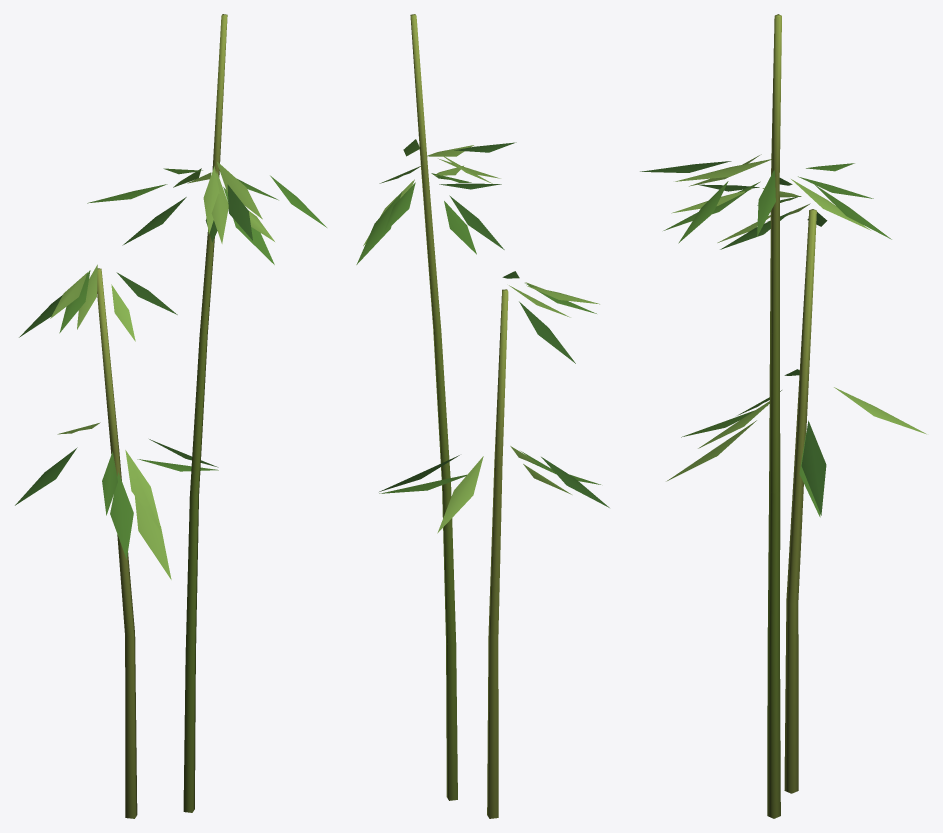
Rendered from prop.bamboo_stalks.lod1.glb.
3 renders of one model, left to right at view 1: azimuth 30°, elevation 25°; view 2: azimuth 150°, elevation 25°; view 3: azimuth 270°, elevation 25°, orthographic. The views are drawn at different scales.
Parts seen in each view (by area): view 1: bamboo_stalks; view 2: bamboo_stalks; view 3: bamboo_stalks.
Part boxes in pixels (x1,y1,x2,y2): bamboo_stalks: (15, 14, 326, 818); bamboo_stalks: (356, 14, 609, 818); bamboo_stalks: (640, 14, 926, 818).
Bounding box in the file's own units: 2.82 × 8.12 × 2.6.
